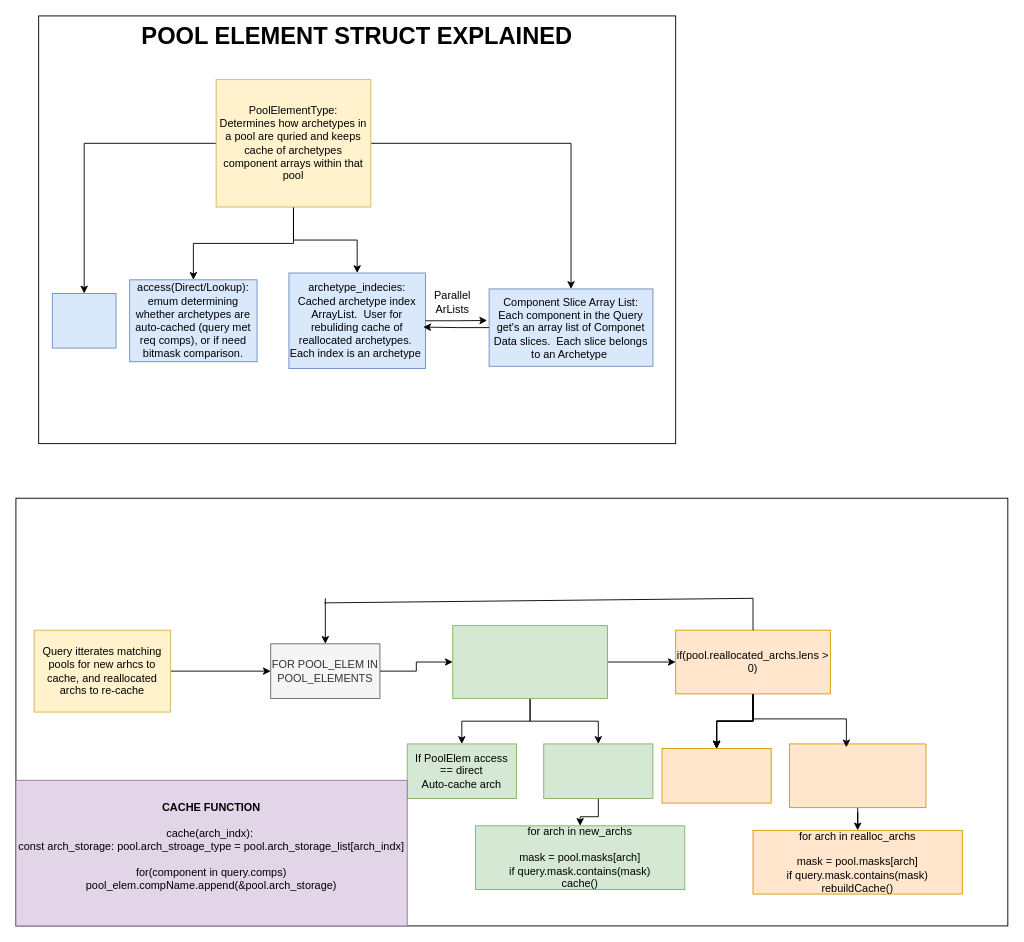
The diagram is 1024 pixels wide and 942 high, and some of its shapes have lost their labels. The shapes that lost their labels are listed below. From the top down, each one's box as (x1, y1, x2, y2) in pixels, then its label:
(51, 293, 116, 348): pool_name: PoolName enum
(452, 625, 607, 698): get pool via pool_registry.getPoolByName if(pool.new_arch.len > 0)
(15, 497, 1008, 926): FROM POOLS TO QUERY
(543, 743, 653, 799): If PoolElem access == lookup Check bitmask of arch before caching
(661, 748, 771, 803): If PoolElem access == direct Auto rebuild cache for each arch in list
(789, 743, 926, 808): If PoolElem access == lookup Check bitmask of arch before rebuilding cache
